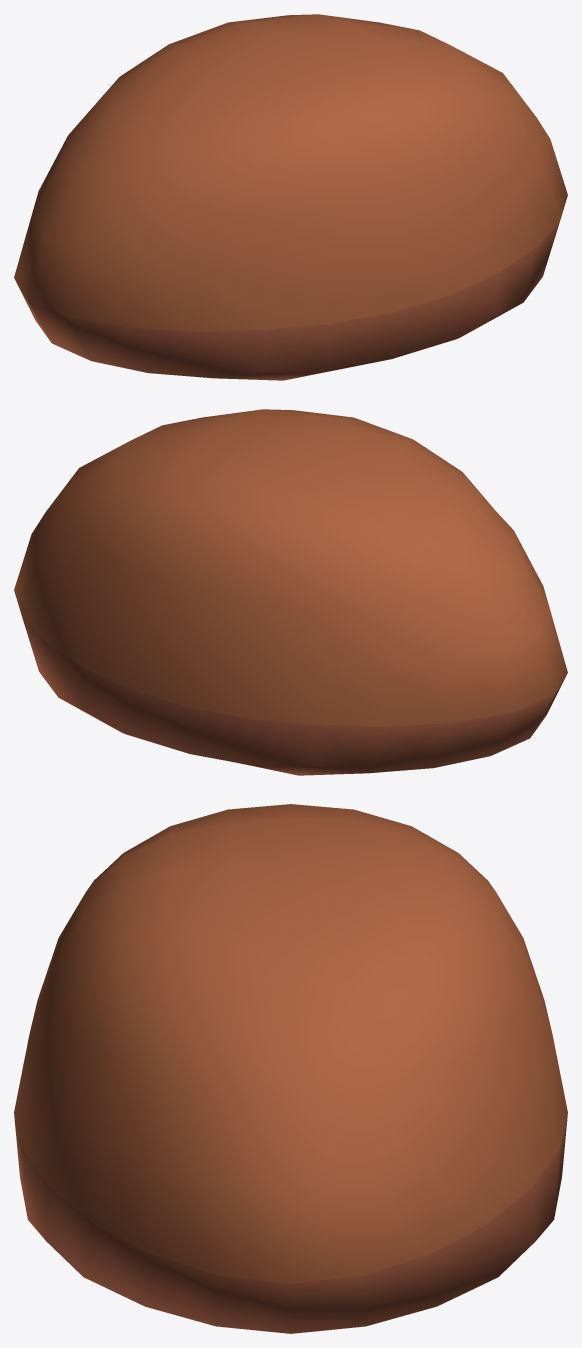
File: PROP_Pie.fbx
3 views of the same model, one above another, from view 1: azimuth 30°, elevation 25°; view 2: azimuth 150°, elevation 25°; view 3: azimuth 270°, elevation 25° (orthographic). The views are drawn at different scales.
Parts seen in each view (by area): view 1: Pie; view 2: Pie; view 3: Pie.
Boxes of the visible parts, box(x1,y1,x2,y2) form: Pie: box(14, 14, 567, 380); Pie: box(14, 409, 567, 775); Pie: box(14, 804, 567, 1333).
Bounding box in the file's own units: 0.2124 × 0.0973 × 0.1448.
